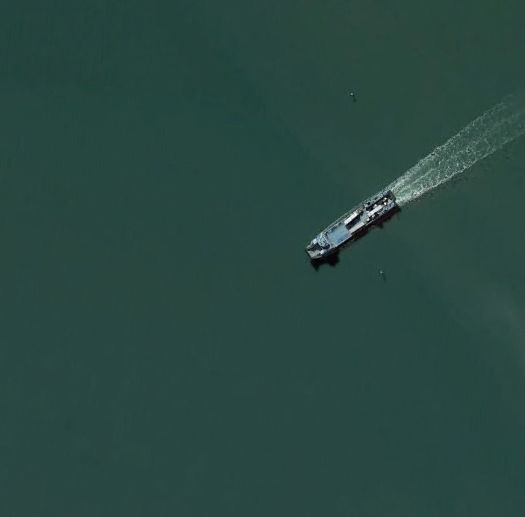boat: (304, 188, 399, 263)
